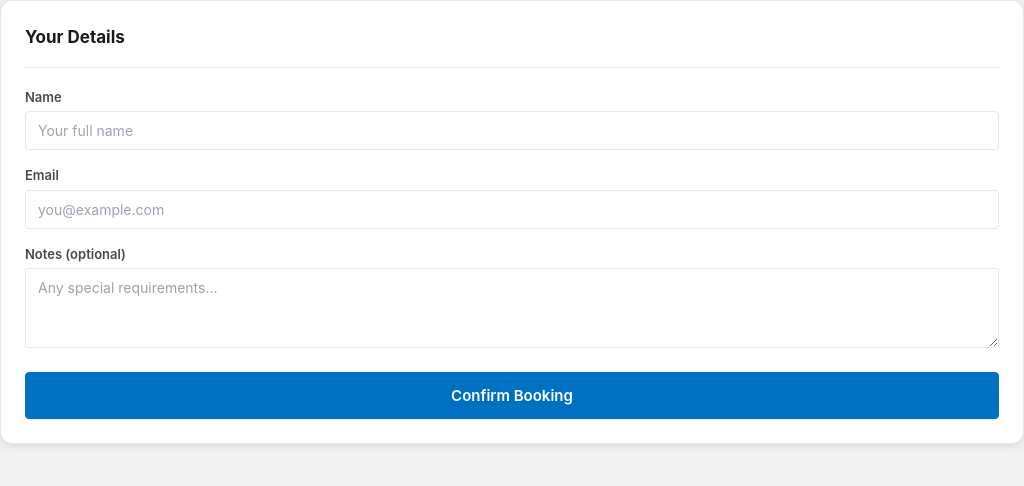
CheckoutForm › shows "Invalid email format" for bad email
This screenshot has width=1024, height=486.
Type "Alice" into the field with placeholder "Your full name" at [512, 130], box x1=25 y1=111 x2=999 y2=150
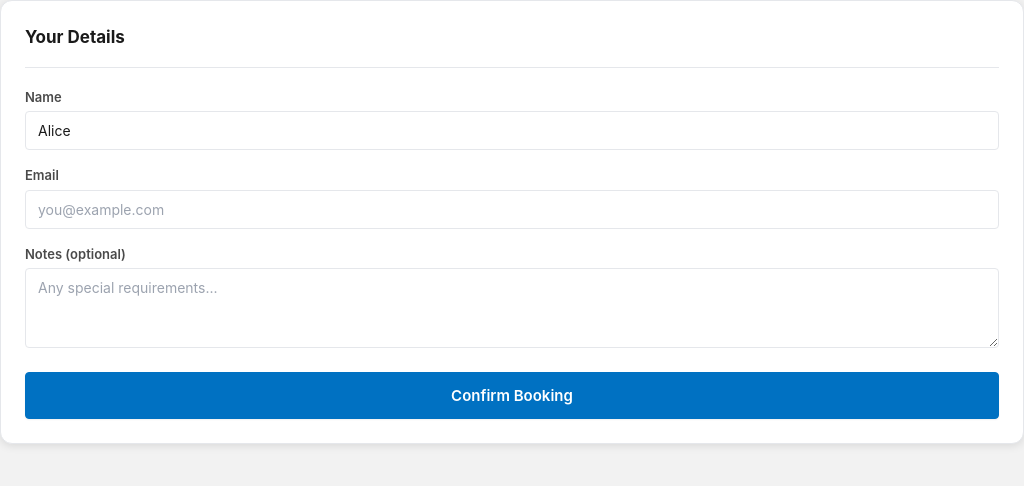
Type "not-an-email" into the field with placeholder "you@example.com" at [512, 209], box x1=25 y1=190 x2=999 y2=228
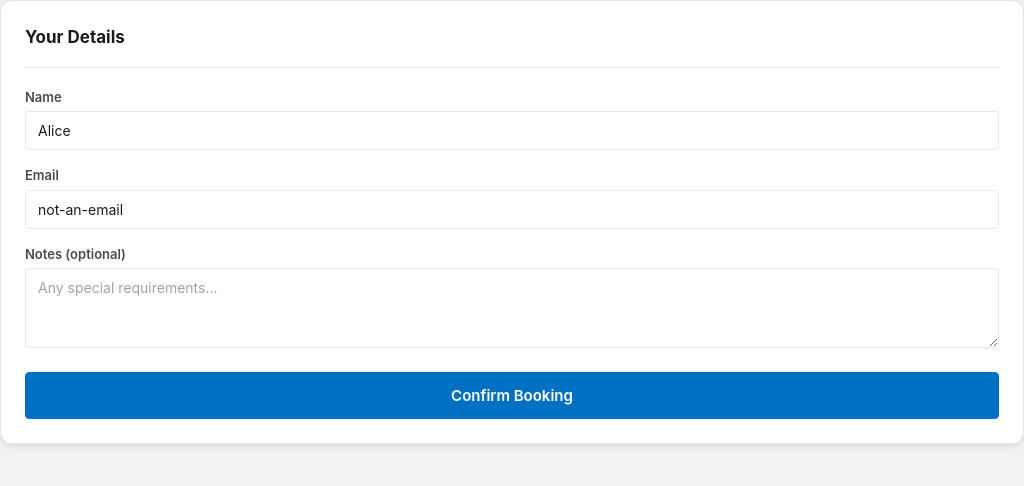
Submit the form
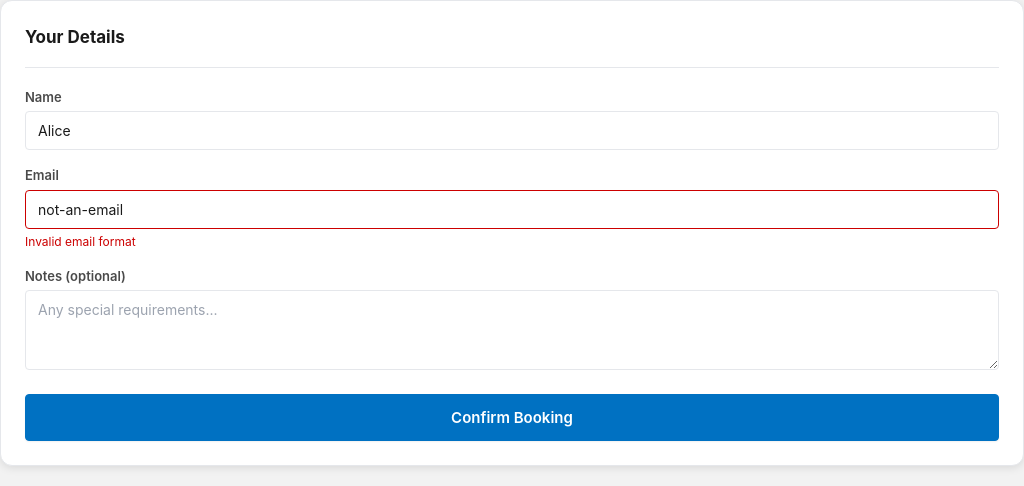
Result: the text "Invalid email format" is shown at x1=25 y1=234 x2=136 y2=248
